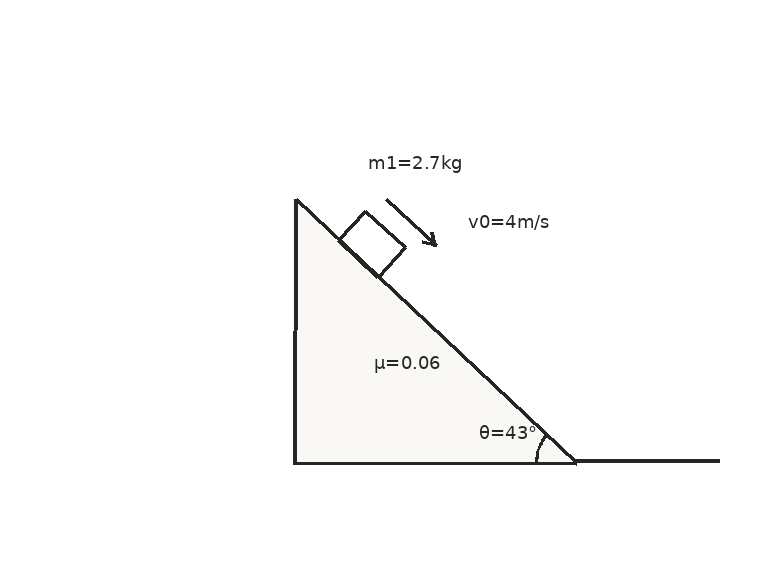block: (336, 210, 406, 279)
ramp: (292, 197, 578, 464)
